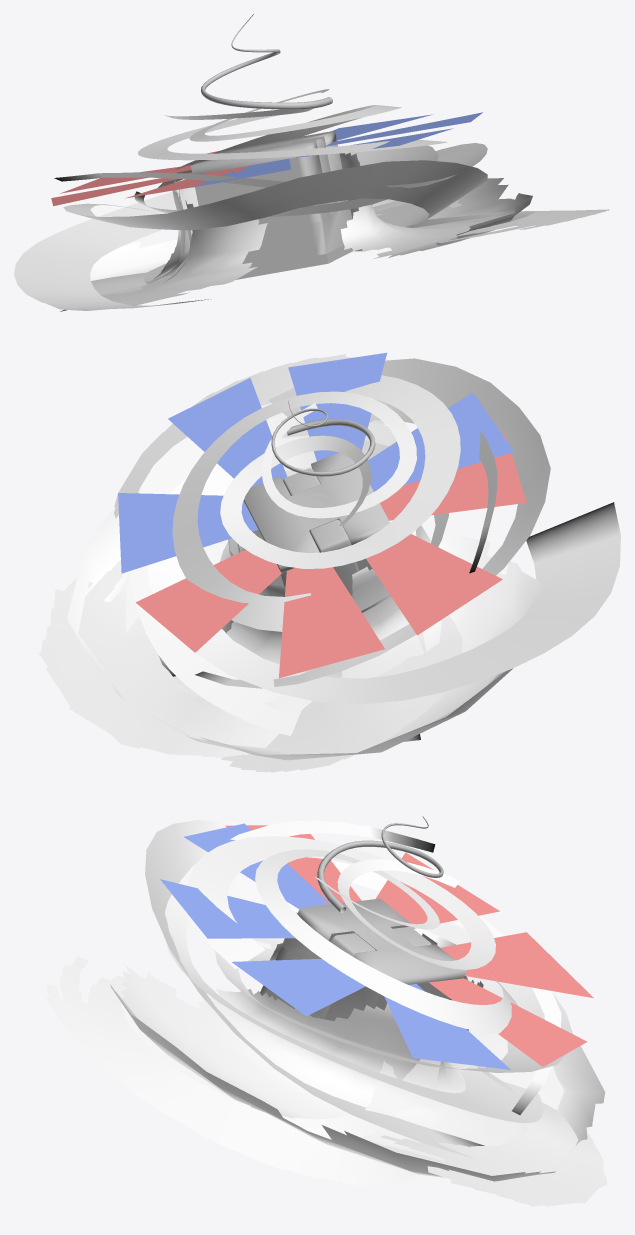
Rendered from MysteryBoxGroup.fbx.
3 views of the same model, one above another, from view 1: azimuth 30°, elevation 25°; view 2: azimuth 150°, elevation 25°; view 3: azimuth 270°, elevation 25° (orthographic). The views are drawn at different scales.
Parts seen in each view (by area): view 1: WonderBox_Smoke, WonderBox_SmokeTrails, WonderBox_SmokeTrails3, Box_Geo05_mBox_base_geo, WonderBox_SmokeTrails4, Box_Geo05_mBox_rays_geo_blue, WonderBox_SmokeTrails2, WonderBox_SmokeTrails5, Box_Geo05_mBox_rays_geo_red, WonderBox_SmokeTop, Box_Geo05_mBox_lid_geo, WonderBox_SmokeTrails6 (+2 smaller); view 2: Box_Geo05_mBox_rays_geo_red, WonderBox_SmokeTrails3, WonderBox_SmokeTop2, Box_Geo05_mBox_rays_geo_blue, WonderBox_Smoke, WonderBox_SmokeTrails4, WonderBox_SmokeTrails5, WonderBox_SmokeTrails, WonderBox_SmokeTrails2, WonderBox_SmokeTop3, Box_Geo05_mBox_lid_geo, WonderBox_SmokeTop (+2 smaller); view 3: WonderBox_Smoke, WonderBox_SmokeTop, Box_Geo05_mBox_rays_geo_blue, Box_Geo05_mBox_rays_geo_red, WonderBox_SmokeTop2, WonderBox_SmokeTrails4, WonderBox_SmokeTrails, WonderBox_SmokeTrails5, WonderBox_SmokeTrails2, Box_Geo05_mBox_lid_geo, WonderBox_SmokeTrails3, Box_Geo05_mBox_base_geo (+3 smaller).
Boxes of the visible parts, bbox=[...] form: WonderBox_Smoke: bbox=[46, 152, 532, 310]; WonderBox_SmokeTrails: bbox=[63, 160, 487, 230]; WonderBox_SmokeTrails3: bbox=[14, 145, 438, 309]; Box_Geo05_mBox_base_geo: bbox=[195, 141, 352, 279]; WonderBox_SmokeTrails4: bbox=[137, 108, 448, 160]; Box_Geo05_mBox_rays_geo_blue: bbox=[193, 112, 482, 187]; WonderBox_SmokeTrails2: bbox=[54, 143, 487, 311]; WonderBox_SmokeTrails5: bbox=[158, 89, 401, 187]; Box_Geo05_mBox_rays_geo_red: bbox=[51, 151, 248, 206]; WonderBox_SmokeTop: bbox=[354, 209, 609, 251]; Box_Geo05_mBox_lid_geo: bbox=[191, 131, 336, 174]; WonderBox_SmokeTrails6: bbox=[201, 14, 332, 109]; Box_Geo05_mBox_rays_geo_red: bbox=[135, 434, 526, 678]; WonderBox_SmokeTrails3: bbox=[147, 435, 620, 704]; WonderBox_SmokeTop2: bbox=[38, 559, 342, 758]; Box_Geo05_mBox_rays_geo_blue: bbox=[118, 352, 513, 573]; WonderBox_Smoke: bbox=[67, 420, 547, 760]; WonderBox_SmokeTrails4: bbox=[220, 375, 460, 568]; WonderBox_SmokeTrails5: bbox=[172, 391, 416, 631]; WonderBox_SmokeTrails: bbox=[125, 358, 550, 688]; WonderBox_SmokeTrails2: bbox=[129, 400, 497, 741]; WonderBox_SmokeTop3: bbox=[221, 615, 462, 772]; Box_Geo05_mBox_lid_geo: bbox=[243, 452, 389, 572]; WonderBox_SmokeTop: bbox=[114, 354, 385, 633]; WonderBox_Smoke: bbox=[110, 933, 605, 1181]; WonderBox_SmokeTop: bbox=[45, 956, 441, 1186]; Box_Geo05_mBox_rays_geo_blue: bbox=[160, 823, 510, 1069]; Box_Geo05_mBox_rays_geo_red: bbox=[225, 825, 593, 1066]; WonderBox_SmokeTop2: bbox=[372, 980, 607, 1206]; WonderBox_SmokeTrails4: bbox=[187, 836, 495, 969]; WonderBox_SmokeTrails: bbox=[145, 820, 561, 1157]; WonderBox_SmokeTrails5: bbox=[255, 849, 517, 1033]; WonderBox_SmokeTrails2: bbox=[163, 820, 543, 1122]; Box_Geo05_mBox_lid_geo: bbox=[297, 898, 467, 984]; WonderBox_SmokeTrails3: bbox=[179, 872, 572, 1072]; Box_Geo05_mBox_base_geo: bbox=[260, 938, 452, 1020].
Bounding box in the file's own units: 0.2981 × 0.176 × 0.2822.
